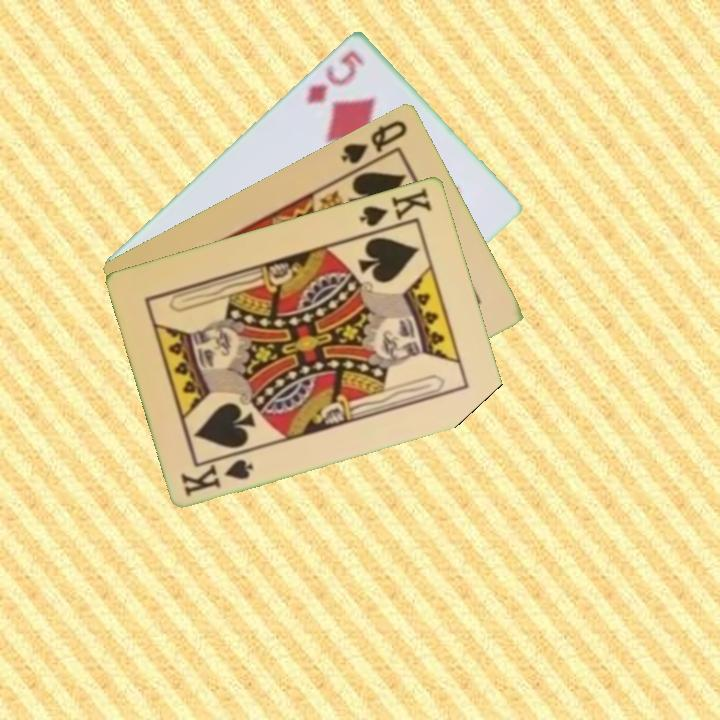5d: (303, 46, 368, 107)
Ks: (356, 183, 435, 236), (177, 455, 257, 499)
Qs: (337, 116, 411, 166)
